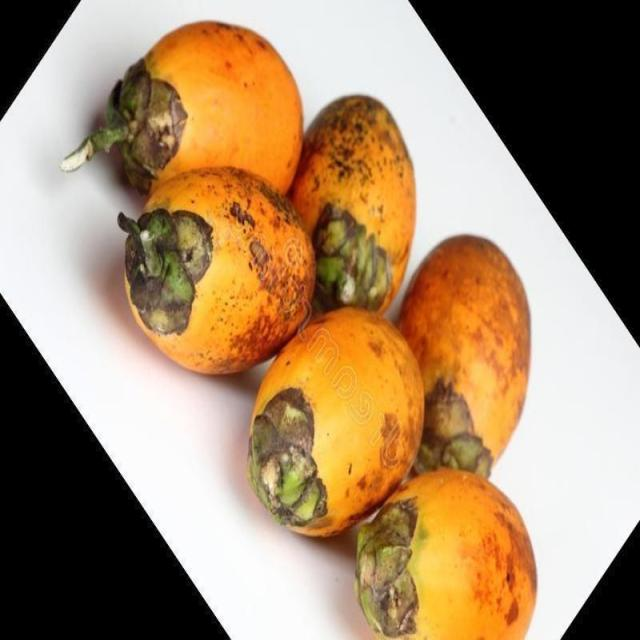good: (66, 20, 305, 197), (118, 167, 317, 377), (247, 309, 426, 542), (395, 235, 532, 471), (354, 471, 538, 639), (289, 96, 418, 318)
